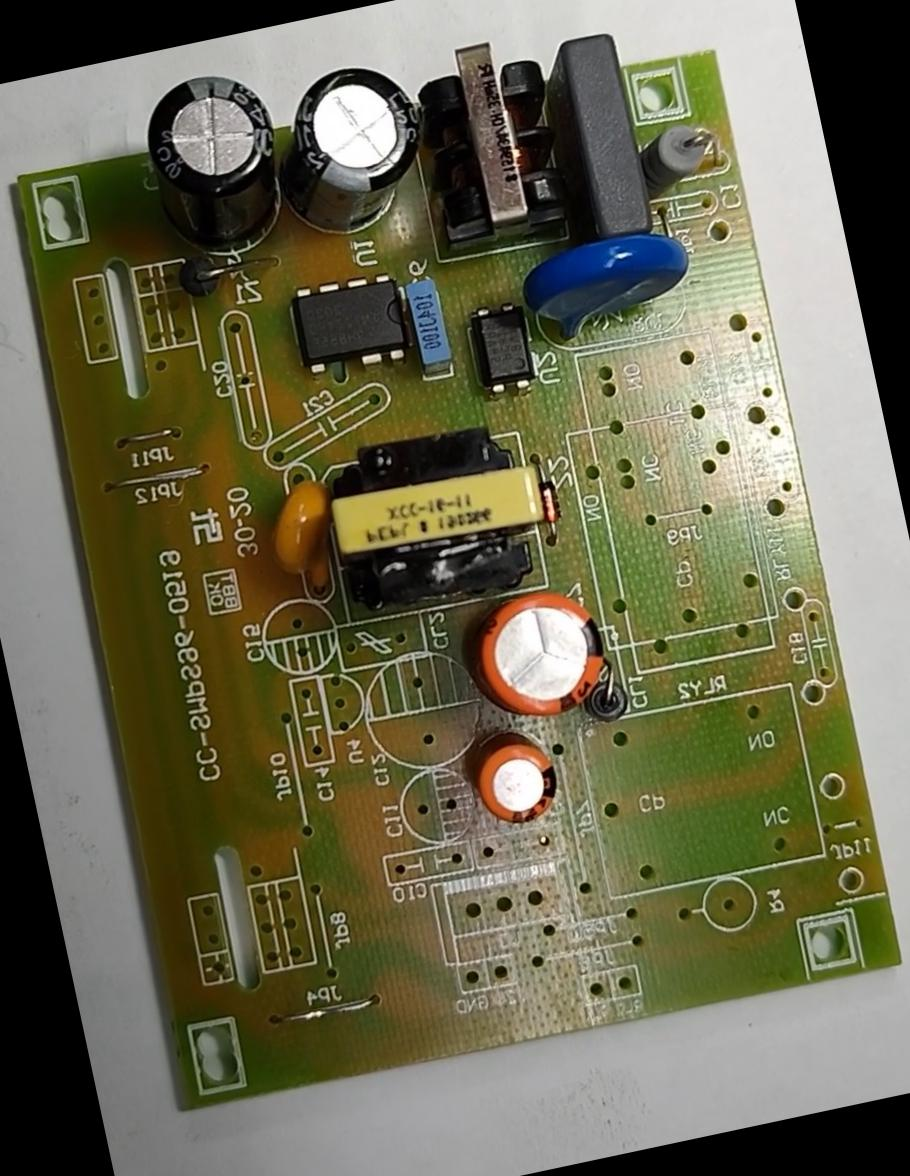Cap1: (460, 578, 619, 734)
Cap2: (463, 731, 566, 835)
Cap3: (264, 50, 442, 247)
Cap4: (132, 59, 300, 264)
MOSFET: (280, 266, 418, 386)
Mov: (514, 222, 706, 352)
Resistor: (638, 107, 722, 197)
Transformer: (308, 406, 560, 622), (404, 24, 584, 256)
